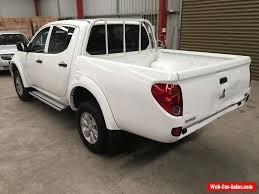Dent: (220, 81, 245, 103)
